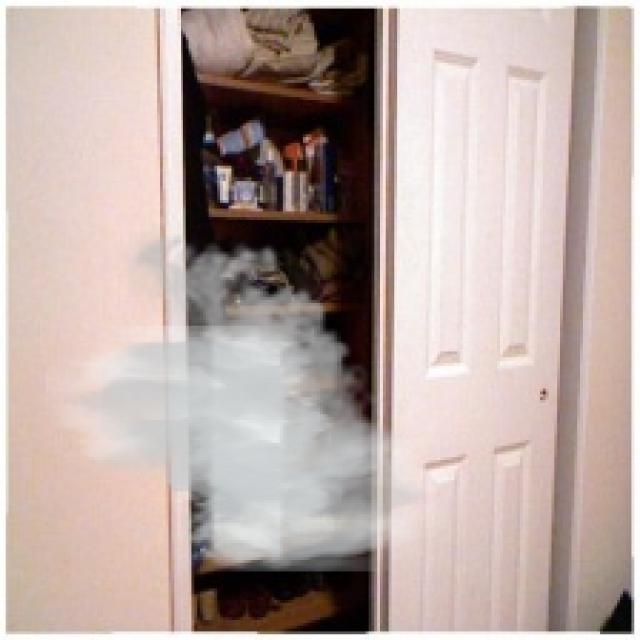Smoke: (46, 223, 448, 572)
